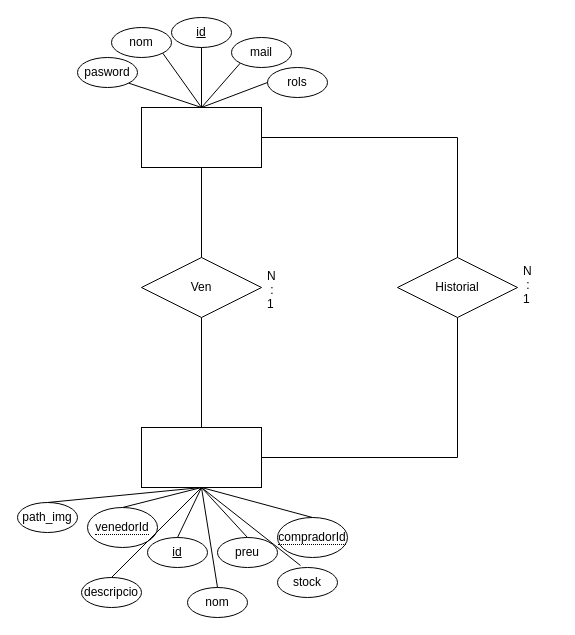
Some shapes in this 575 by 635 pixel diagram are drawn without their labels. Here are the shapes that lost their labels. From the top down, the centre of each, then its label:
pixel 201 137: USUARI
pixel 201 457: PRODUCTE
